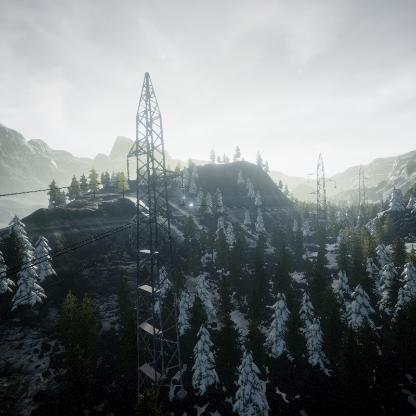tower: (123, 72, 190, 396), (305, 151, 339, 216)
